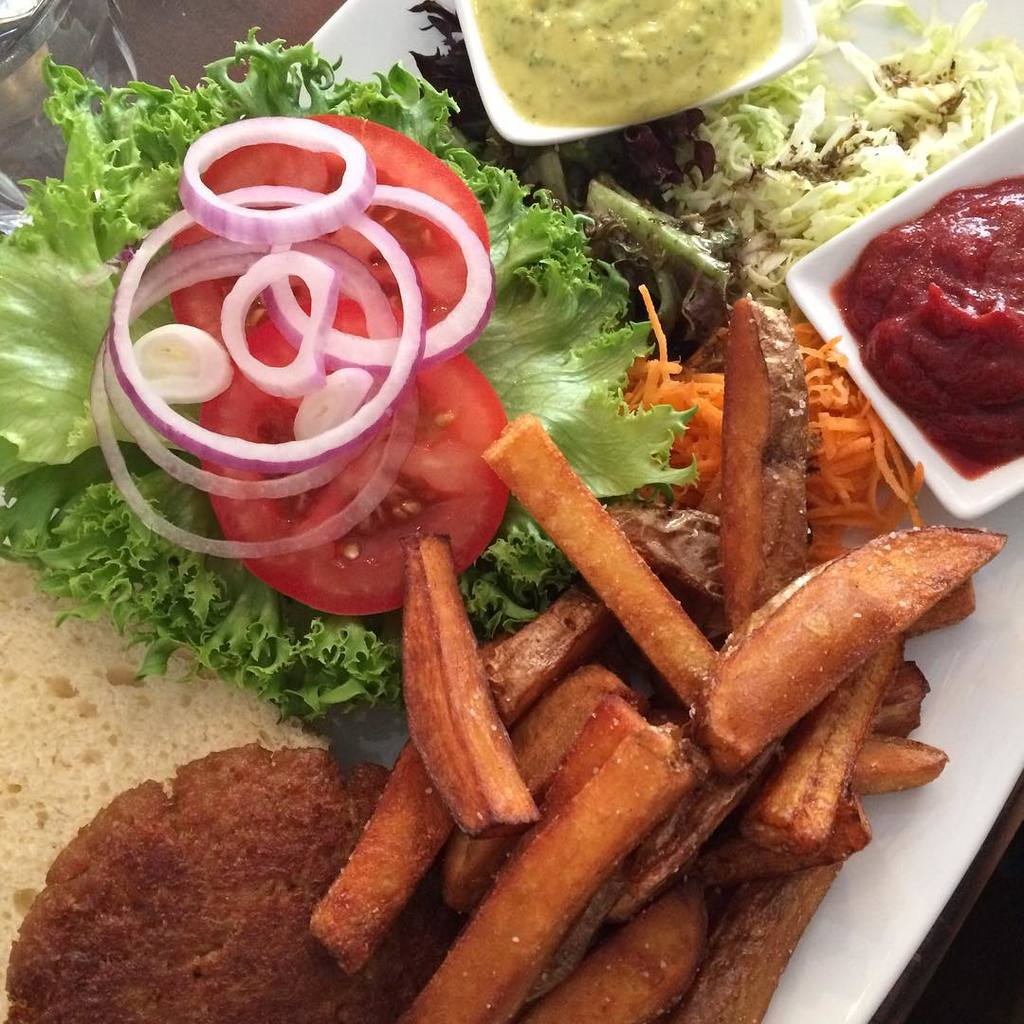French fries: (292, 287, 993, 1023)
